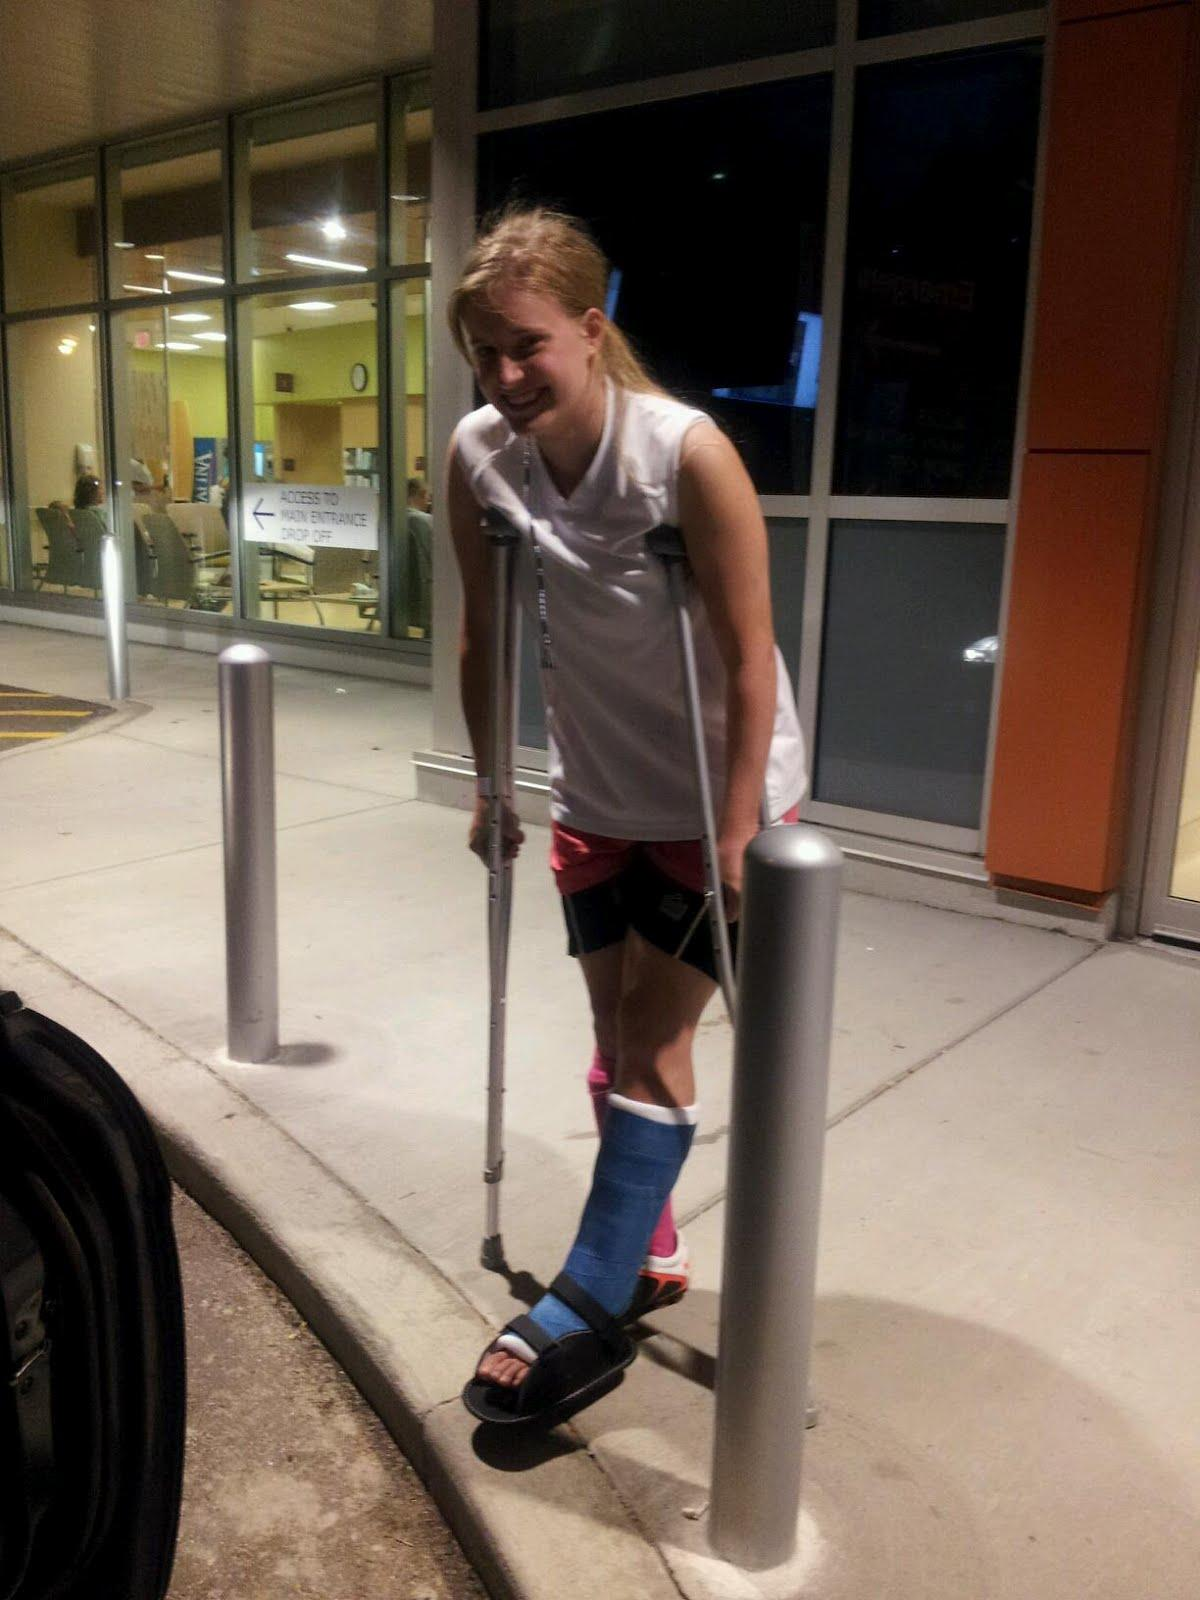crutches: (441, 215, 816, 1430)
